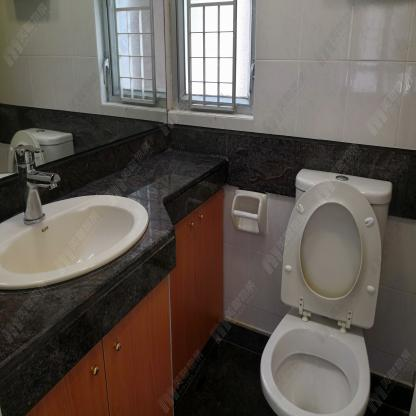Toilet: (259, 167, 393, 416)
Toilet Sink: (0, 193, 151, 292)
